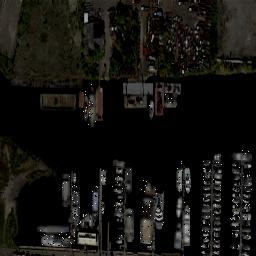boat: (140, 178, 153, 243), (41, 232, 75, 246), (154, 188, 164, 229), (72, 184, 80, 229), (88, 84, 96, 127), (125, 204, 134, 242), (37, 222, 69, 232), (183, 202, 190, 246), (62, 171, 70, 206), (230, 150, 252, 160), (92, 184, 98, 220), (174, 218, 181, 248), (184, 166, 191, 195), (83, 88, 89, 121), (176, 162, 182, 191), (126, 165, 132, 192), (148, 94, 154, 120), (176, 193, 182, 217), (114, 156, 128, 166), (101, 166, 106, 185), (164, 100, 177, 106), (164, 94, 177, 100), (85, 208, 89, 227), (112, 186, 123, 192), (80, 212, 84, 228), (242, 174, 252, 180), (230, 214, 240, 220), (212, 154, 222, 160), (88, 212, 92, 226), (243, 162, 252, 168), (242, 214, 251, 220), (242, 226, 251, 232), (242, 232, 251, 238), (212, 224, 221, 230), (213, 166, 222, 172), (213, 160, 222, 166), (202, 166, 211, 172), (114, 210, 123, 216), (242, 186, 252, 191), (230, 197, 240, 202), (200, 242, 210, 247), (232, 166, 240, 172), (242, 220, 250, 226), (230, 220, 238, 226), (202, 206, 210, 212), (202, 212, 210, 218), (202, 224, 210, 230), (202, 230, 210, 236), (243, 180, 252, 185), (231, 191, 240, 196), (212, 201, 221, 206), (213, 178, 222, 183), (114, 199, 123, 204), (114, 175, 123, 180), (232, 174, 240, 179), (231, 186, 239, 191), (213, 190, 221, 195), (202, 201, 210, 206), (114, 205, 122, 210), (101, 200, 104, 213), (241, 250, 250, 254), (213, 208, 222, 212), (213, 174, 222, 178), (200, 248, 209, 252), (117, 232, 123, 238), (116, 216, 122, 222), (73, 171, 76, 183), (203, 185, 210, 190), (115, 181, 122, 186), (232, 162, 240, 166), (232, 210, 240, 214), (230, 244, 238, 248), (242, 245, 250, 249), (212, 232, 220, 236), (213, 196, 221, 200), (213, 185, 221, 189), (202, 160, 210, 164), (202, 179, 210, 183), (202, 196, 210, 200), (202, 220, 210, 224), (115, 194, 123, 198), (116, 238, 122, 243), (243, 192, 250, 196), (243, 198, 250, 202), (232, 203, 239, 207), (243, 204, 250, 208), (242, 210, 249, 214), (232, 226, 239, 230), (213, 243, 220, 247), (213, 249, 220, 253), (213, 220, 220, 224), (213, 214, 220, 218), (203, 174, 210, 178), (203, 190, 210, 194), (115, 168, 122, 172), (233, 180, 239, 184), (232, 232, 238, 236), (203, 236, 209, 240), (147, 243, 151, 248), (178, 158, 182, 162), (213, 238, 220, 240), (238, 245, 240, 249), (242, 226, 243, 230)
